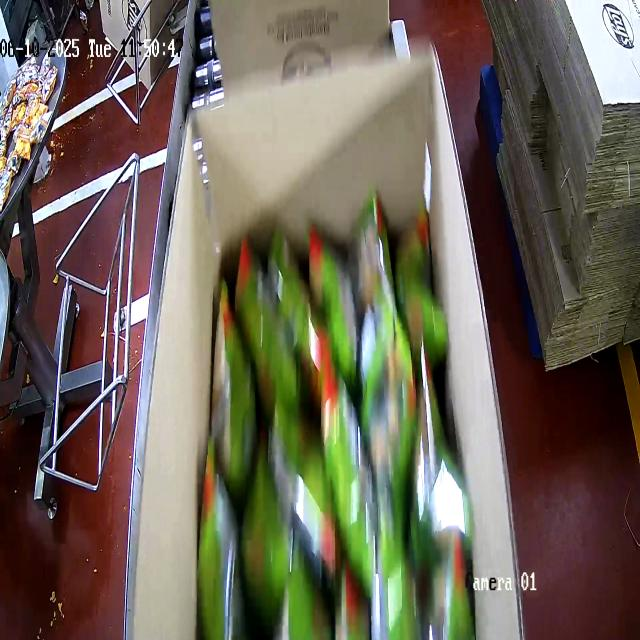YOGURT_HERB: (208, 213, 457, 640)
